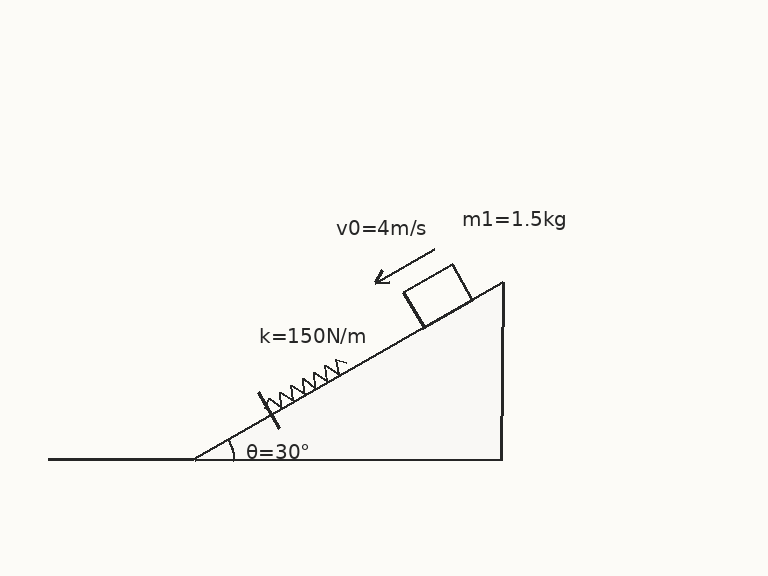block: (402, 262, 474, 329)
ramp: (192, 280, 503, 462)
spring: (264, 357, 348, 410)
